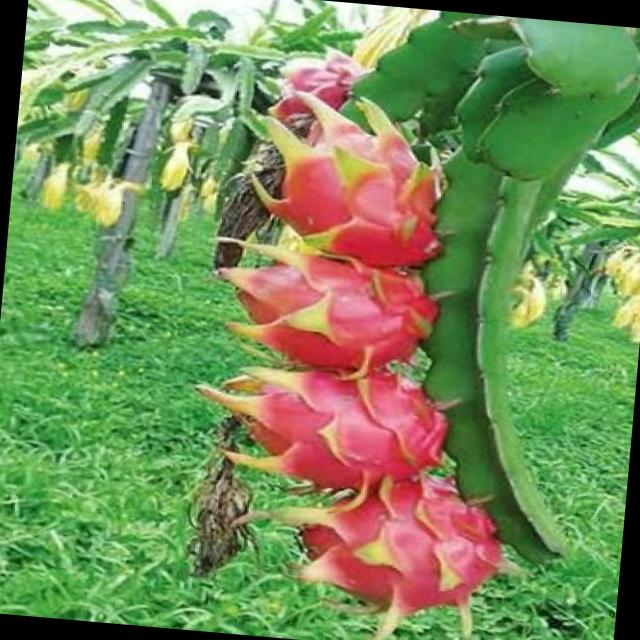Thanh Long: (255, 464, 518, 638), (230, 94, 481, 274), (180, 206, 446, 372), (209, 349, 454, 500), (248, 40, 365, 124)
